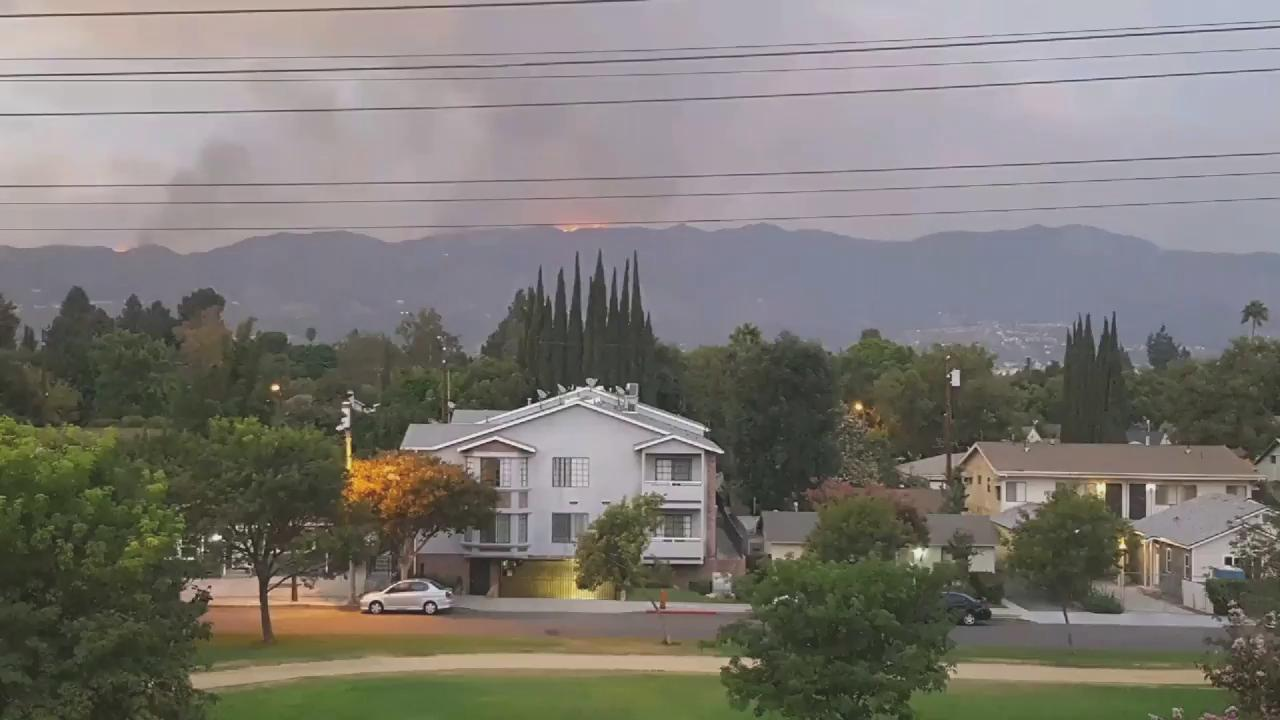fire: (555, 224, 579, 235)
